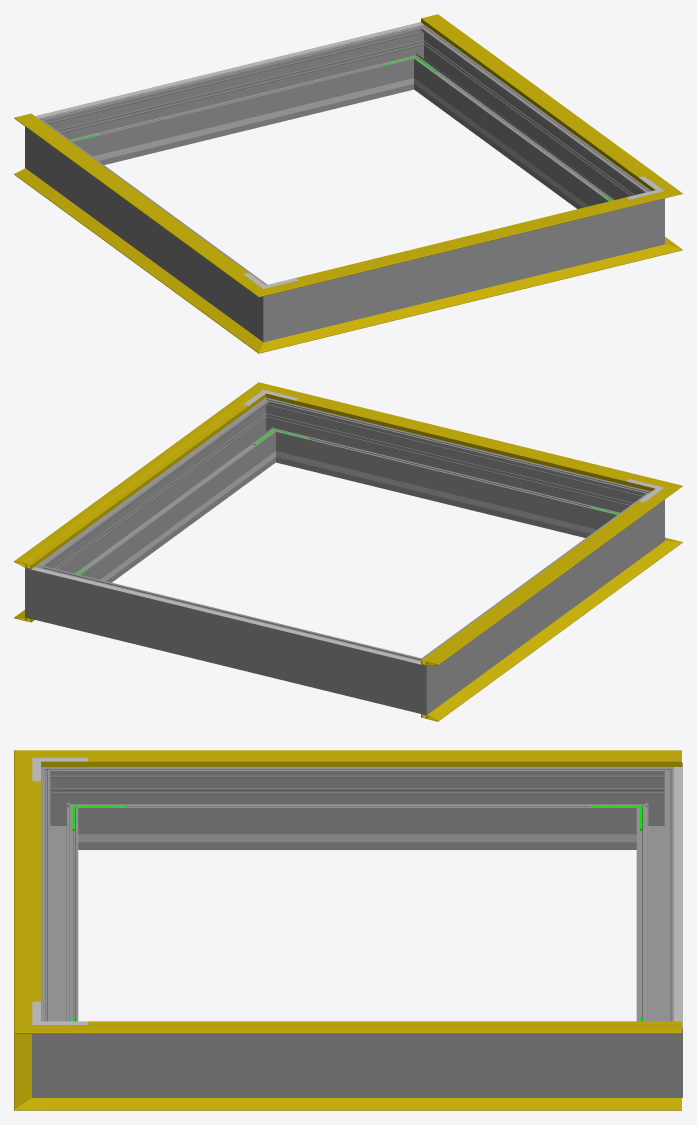
3 renders of one model, top to bottom at view 1: azimuth 30°, elevation 25°; view 2: azimuth 150°, elevation 25°; view 3: azimuth 270°, elevation 25°, orthographic. The views are drawn at different scales.
Visible parts, largest first — view 1: 3DGeom-276, 3DGeom-298, 3DGeom-297, 3DGeom-268, 3DGeom-28, 3DGeom-145, 3DGeom-38, 3DGeom-147, 3DGeom-141, 3DGeom-270, 3DGeom-244, 3DGeom-290 (+8 smaller); view 2: 3DGeom-298, 3DGeom-276, 3DGeom-297, 3DGeom-268, 3DGeom-141, 3DGeom-145, 3DGeom-38, 3DGeom-147, 3DGeom-278, 3DGeom-284, 3DGeom-239, 3DGeom-290 (+7 smaller); view 3: 3DGeom-268, 3DGeom-297, 3DGeom-147, 3DGeom-30, 3DGeom-276, 3DGeom-298, 3DGeom-145, 3DGeom-141, 3DGeom-232, 3DGeom-284, 3DGeom-290, 3DGeom-154 (+9 smaller).
Boxes of the visible parts, left/top/right/bottom form: 3DGeom-276: left=63, top=31, right=408, bottom=164; 3DGeom-298: left=298, top=207, right=629, bottom=333; 3DGeom-297: left=417, top=37, right=638, bottom=208; 3DGeom-268: left=45, top=130, right=254, bottom=326; 3DGeom-28: left=287, top=250, right=647, bottom=344; 3DGeom-145: left=421, top=14, right=661, bottom=185; 3DGeom-38: left=14, top=168, right=249, bottom=338; 3DGeom-147: left=14, top=115, right=249, bottom=281; 3DGeom-141: left=287, top=197, right=647, bottom=288; 3DGeom-270: left=243, top=275, right=298, bottom=342; 3DGeom-244: left=105, top=86, right=379, bottom=158; 3DGeom-290: left=629, top=181, right=664, bottom=252; 3DGeom-298: left=281, top=404, right=626, bottom=537; 3DGeom-276: left=60, top=572, right=397, bottom=706; 3DGeom-297: left=51, top=410, right=272, bottom=582; 3DGeom-268: left=435, top=503, right=644, bottom=699; 3DGeom-141: left=284, top=391, right=646, bottom=487; 3DGeom-145: left=14, top=397, right=255, bottom=568; 3DGeom-38: left=421, top=551, right=662, bottom=721; 3DGeom-147: left=421, top=497, right=662, bottom=665; 3DGeom-278: left=391, top=648, right=446, bottom=715; 3DGeom-284: left=25, top=554, right=66, bottom=625; 3DGeom-239: left=310, top=459, right=584, bottom=531; 3DGeom-290: left=249, top=397, right=295, bottom=464; 3DGeom-268: left=87, top=767, right=627, bottom=849; 3DGeom-297: left=87, top=1034, right=627, bottom=1097; 3DGeom-147: left=69, top=750, right=681, bottom=766; 3DGeom-30: left=69, top=1098, right=681, bottom=1110; 3DGeom-276: left=636, top=786, right=673, bottom=1021; 3DGeom-298: left=41, top=786, right=78, bottom=1021; 3DGeom-145: left=69, top=1025, right=681, bottom=1033; 3DGeom-141: left=14, top=773, right=41, bottom=1009; 3DGeom-232: left=132, top=834, right=582, bottom=842; 3DGeom-284: left=627, top=1007, right=682, bottom=1097; 3DGeom-290: left=32, top=1007, right=87, bottom=1097; 3DGeom-154: left=88, top=757, right=681, bottom=761.
Size of the model in its own units: 1.83 by 0.2357 by 1.83.
